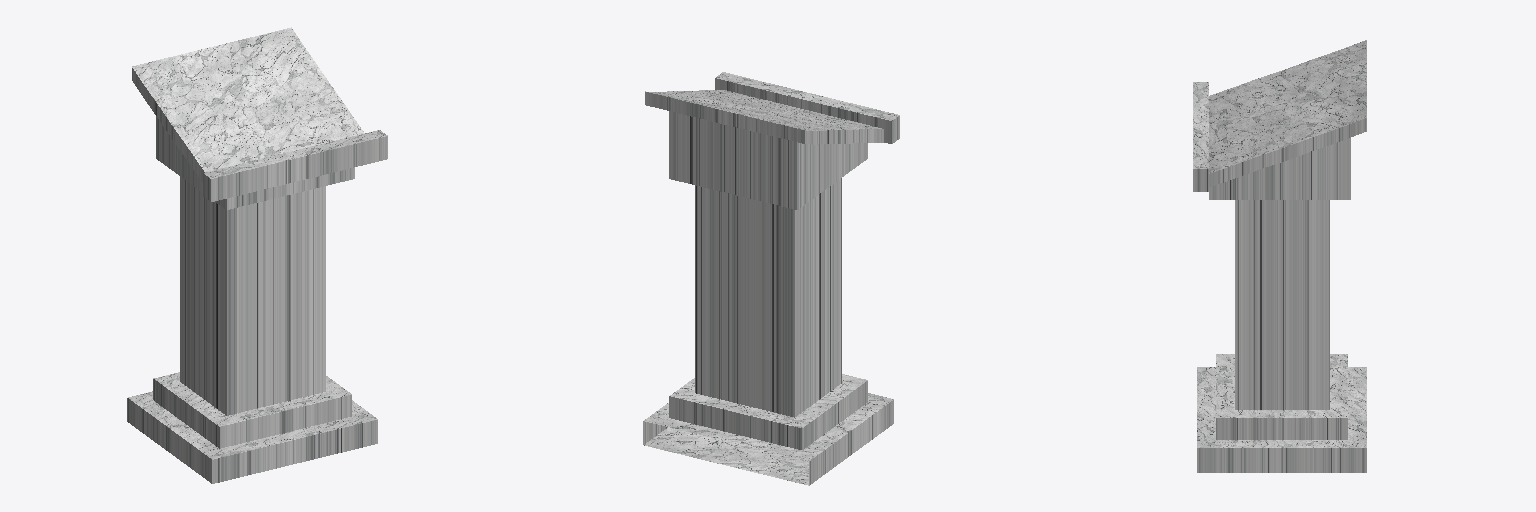
The picture shows the model from 3 angles: view 1: azimuth 30°, elevation 25°; view 2: azimuth 150°, elevation 25°; view 3: azimuth 270°, elevation 25°; orthographic projection.
Visible parts, largest first — view 1: Box001; view 2: Box001; view 3: Box001.
Boxes of the visible parts, x1,y1,x2,y2 form: Box001: [127, 27, 387, 483]; Box001: [643, 72, 899, 485]; Box001: [1193, 40, 1366, 472].
Size of the model in its own units: 21.32 by 40.81 by 18.24.
Materials: 1 (1 with a texture image).